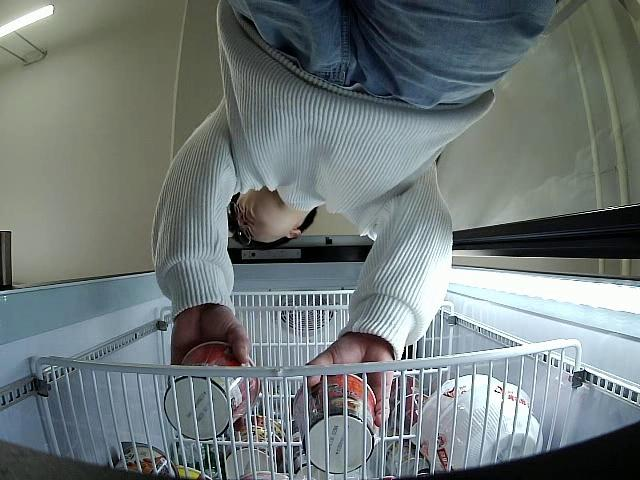00_hand: (304, 336, 392, 424), (169, 306, 253, 372)
02_shinRamen_S: (166, 341, 264, 443), (289, 373, 379, 474)
